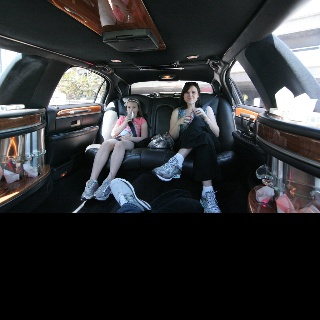without_mask: (184, 85, 198, 103), (126, 101, 137, 115)
